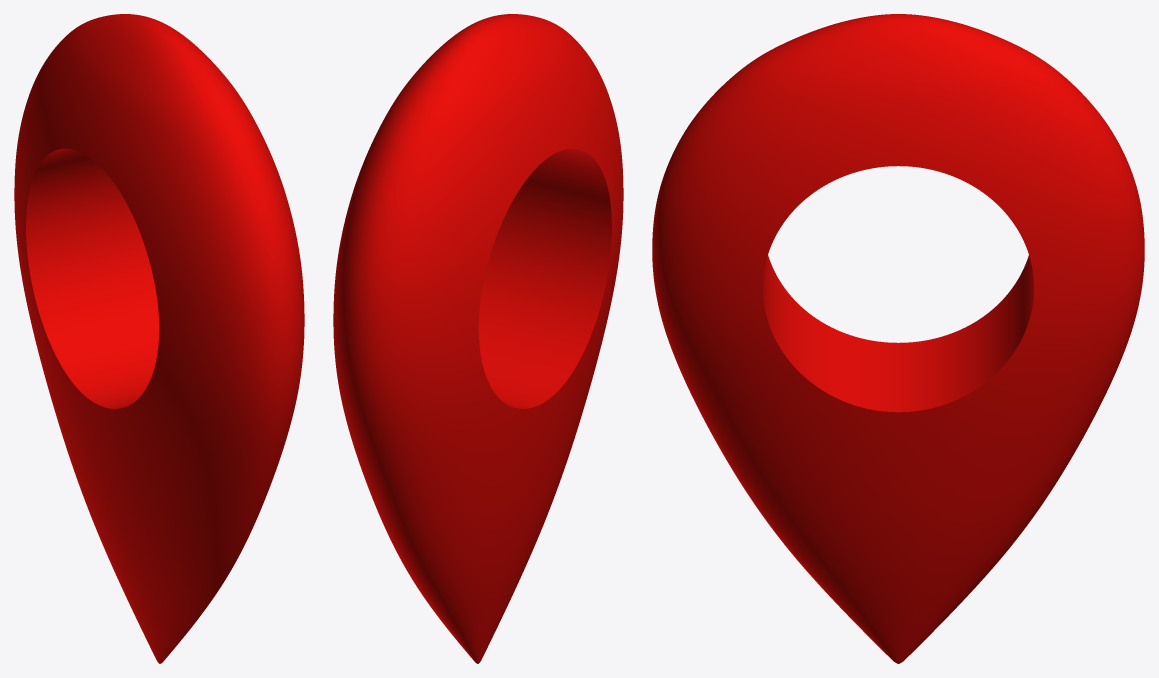
File: Pointer.fbx
3 renders of one model, left to right at view 1: azimuth 30°, elevation 25°; view 2: azimuth 150°, elevation 25°; view 3: azimuth 270°, elevation 25°, orthographic.
Visible parts, largest first — view 1: Circle.001; view 2: Circle.001; view 3: Circle.001.
Part boxes in pixels (x1=…): Circle.001: x1=14, y1=14, x2=304, y2=663; Circle.001: x1=333, y1=14, x2=623, y2=663; Circle.001: x1=652, y1=14, x2=1144, y2=663.
Size of the model in its own units: 118 by 514 by 355.
